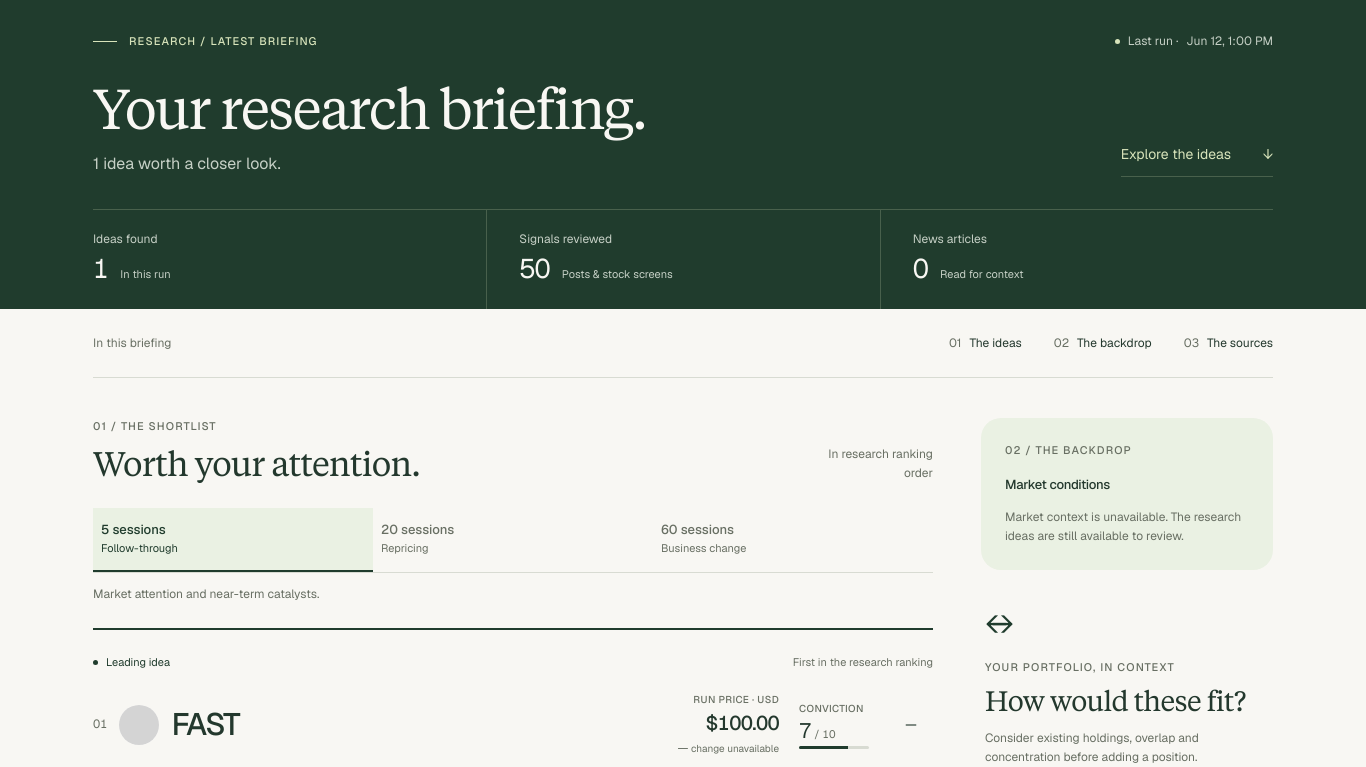
Test: research briefing › shows accepted primary ideas in the editorial briefing without the attention conviction gate
Step 1. Click the button "20 sessions Repricing" → (426, 529), box [373,508,653,572]
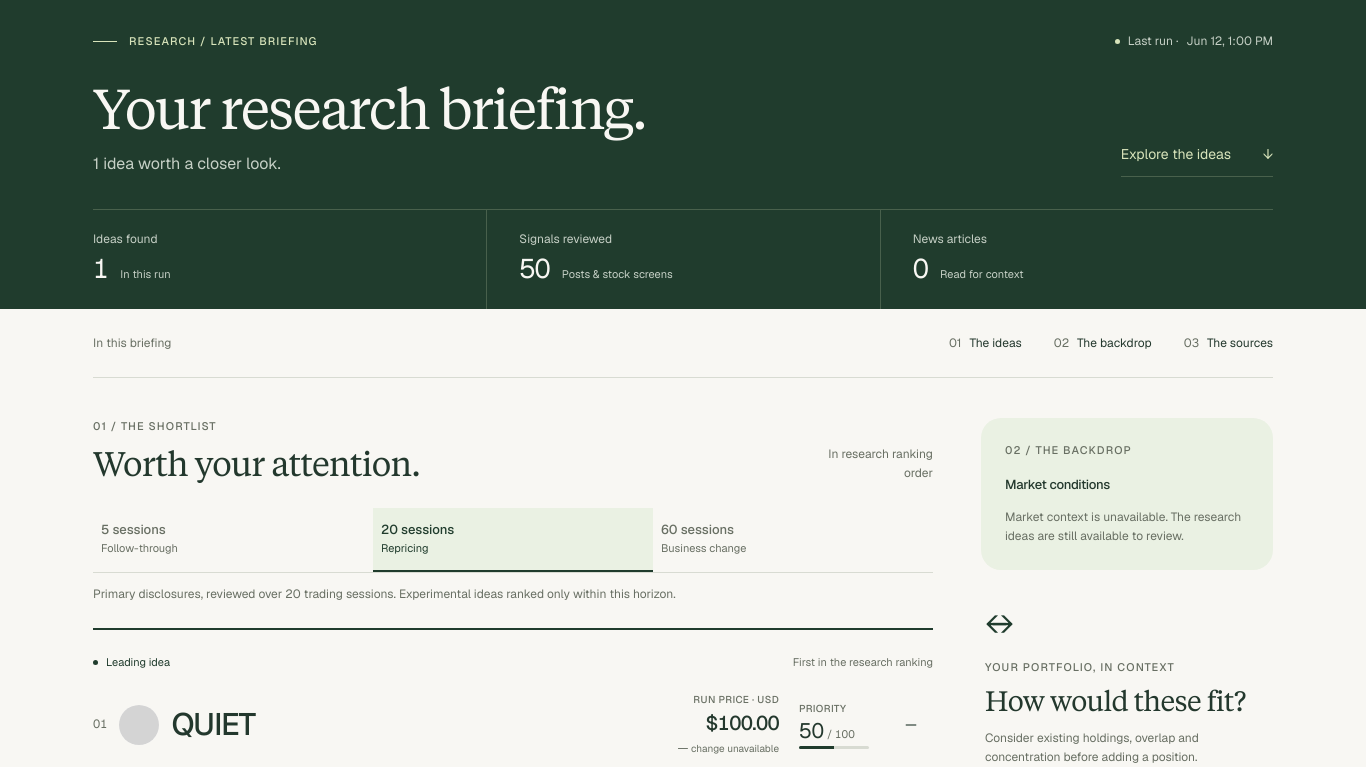
Expected: the heading "Your research briefing." is shown, [93,75,646,139]
Expected: the text "Priority" is shown, [799,701,846,716]
Step 2. Click the button "60 sessions Business change" → (706, 529), box [653,508,933,572]
(page scrolled)
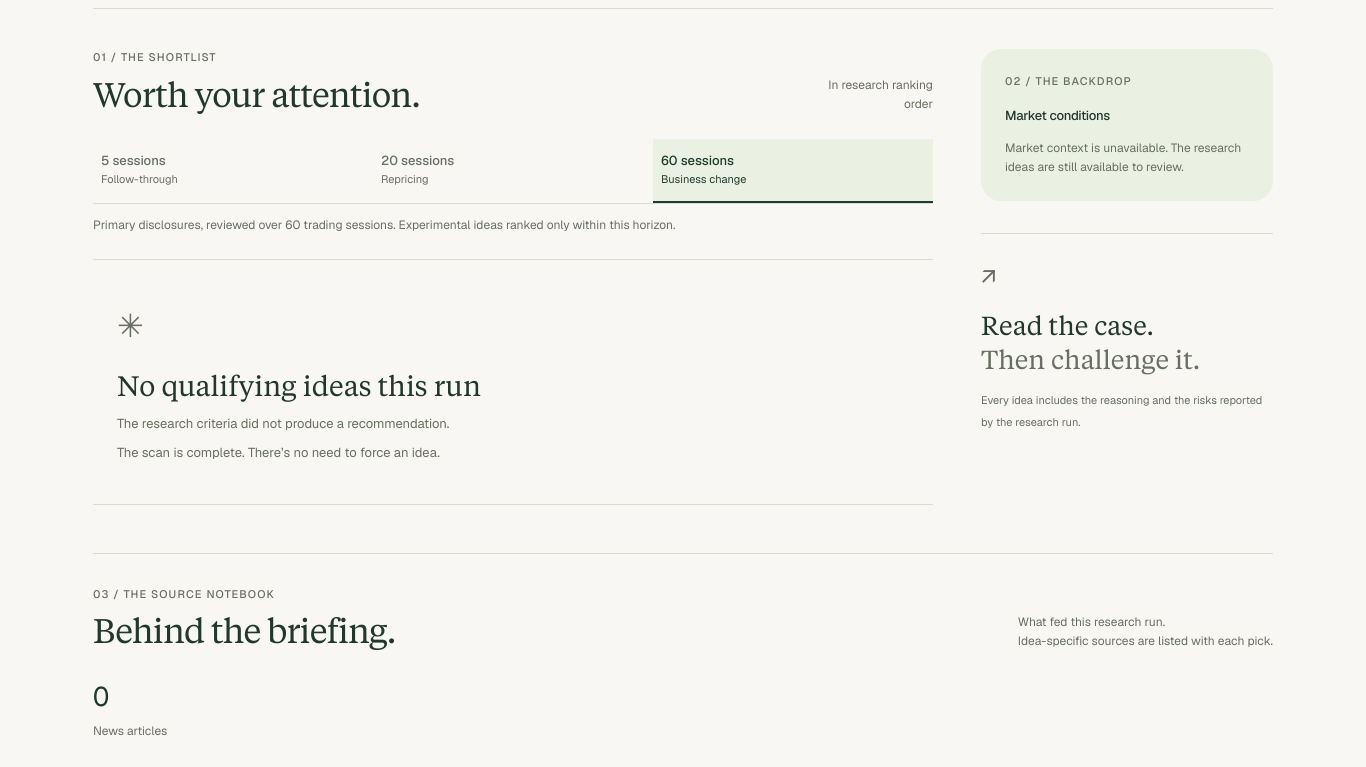
Expected: the heading "No qualifying ideas this run" is shown, [117,366,481,403]
